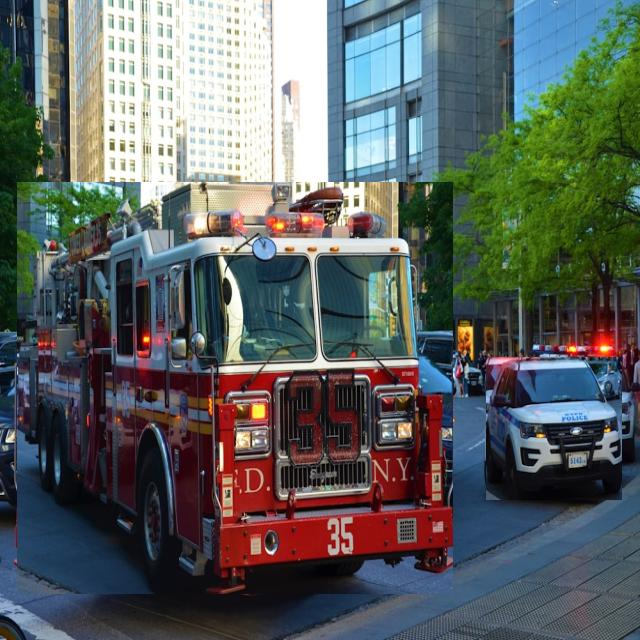car: (486, 357, 621, 500)
emergency: (17, 183, 452, 594)
